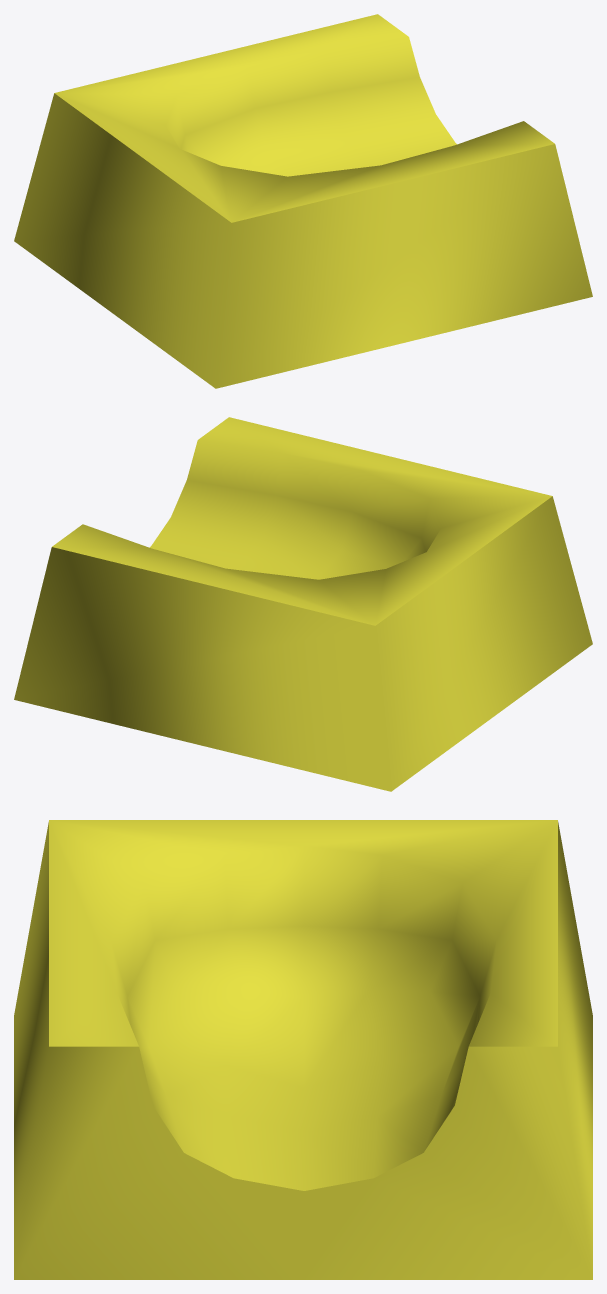
File: HeadSupport.fbx
3 views of the same model, one above another, from view 1: azimuth 30°, elevation 25°; view 2: azimuth 150°, elevation 25°; view 3: azimuth 270°, elevation 25° (orthographic). The views are drawn at different scales.
Parts seen in each view (by area): view 1: HeadSupport; view 2: HeadSupport; view 3: HeadSupport.
Part boxes in pixels (x1,y1,x2,y2): HeadSupport: (14,14,592,388); HeadSupport: (14,417,592,791); HeadSupport: (14,820,592,1279).
Size of the model in its own units: 30.62 by 11.65 by 28.37.
